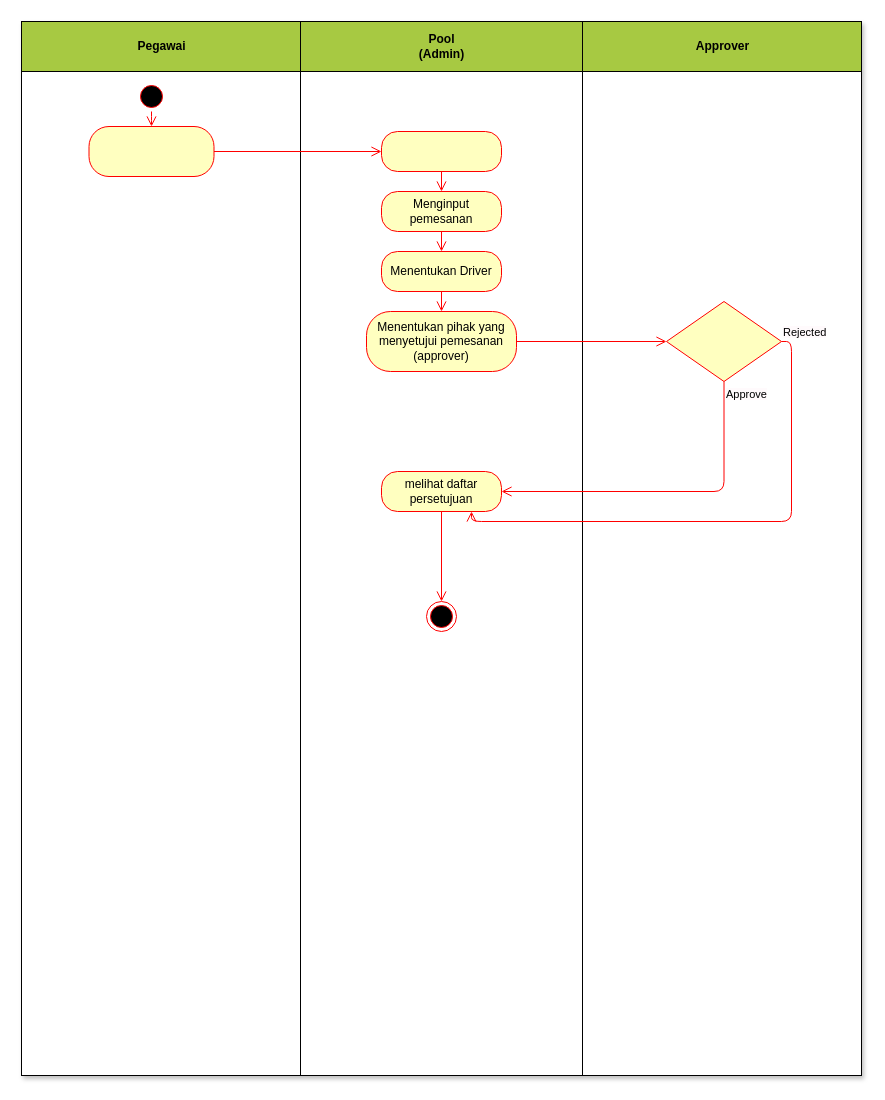
This 885x1100 diagram has some shape labels left out. Here are the shapes that lost their labels. From the top down, the centre of each, then its label:
At (x=151, y=151): "Melakukan pemesanan kendaraan (manual)".
At (x=441, y=151): "Menerima pemesanan kendaraan".
At (x=724, y=341): "Persetujuan pemesanan".
